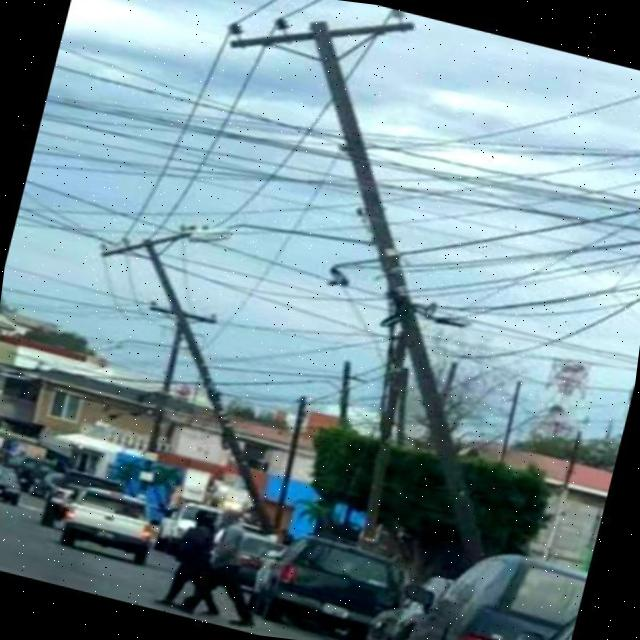Broken Pole: (224, 12, 492, 564), (84, 225, 279, 534)
